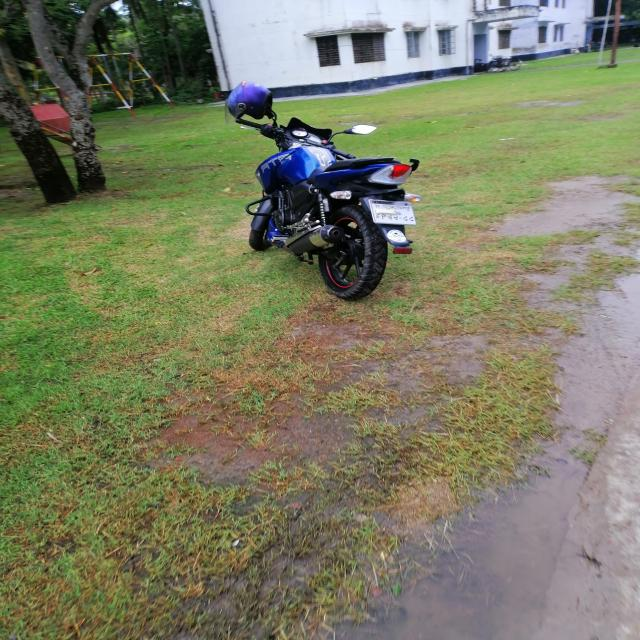Motorbike: (203, 71, 421, 305)
